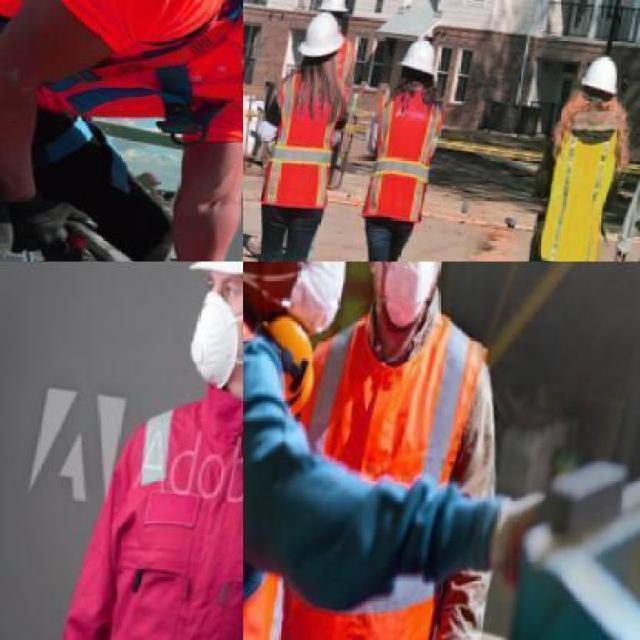Vest: (257, 296, 501, 638), (38, 363, 242, 639), (243, 306, 355, 639), (0, 0, 242, 143), (254, 60, 358, 215), (535, 98, 631, 260), (357, 83, 454, 229), (322, 26, 371, 85)
